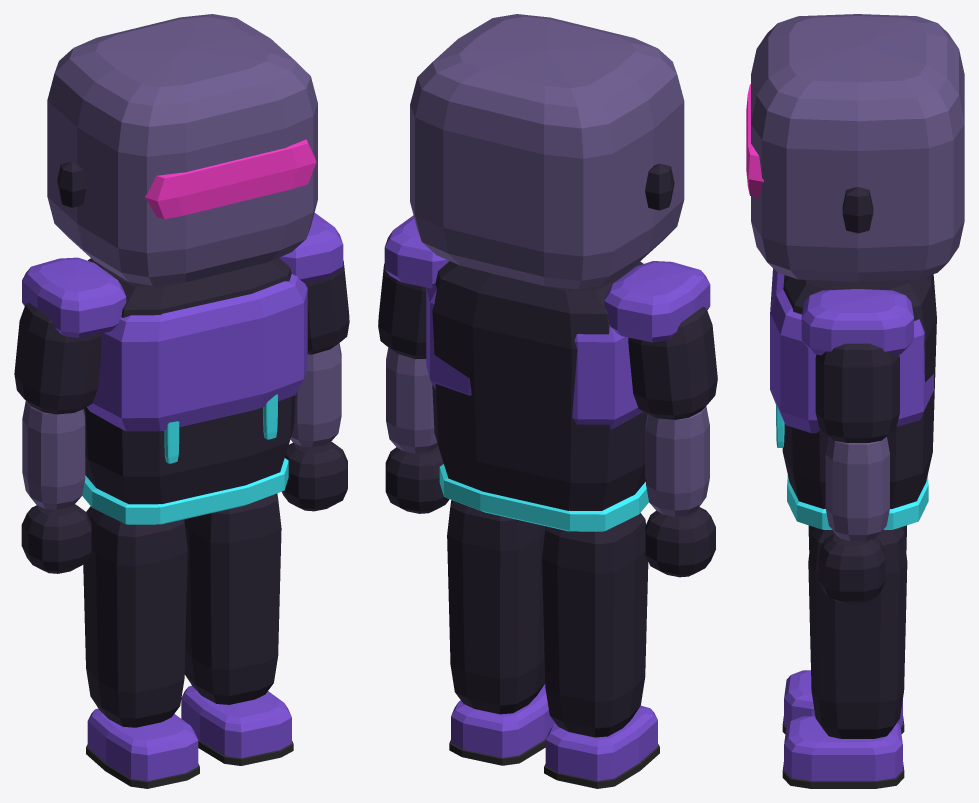
Rendered from hero-h.glb.
3 views of the same model, side by side, from view 1: azimuth 30°, elevation 25°; view 2: azimuth 150°, elevation 25°; view 3: azimuth 270°, elevation 25° (orthographic).
Visible parts, largest first — view 1: head, torso, leg-right, leg-left, arm-right, arm-left; view 2: head, torso, leg-right, leg-left, arm-right, arm-left; view 3: head, torso, leg-left, arm-left, leg-right.
Part boxes in pixels (x1,y1,x2,y2): head: (47,14,317,285); torso: (22,213,343,524); leg-right: (83,506,199,788); leg-left: (181,493,293,765); arm-right: (14,303,101,573); arm-left: (282,260,349,511); head: (410,14,684,289); torso: (384,215,710,531); leg-right: (542,513,659,788); leg-left: (447,500,555,765); arm-right: (628,307,717,577); arm-left: (378,263,449,513); head: (746,14,964,281); torso: (770,268,936,529); leg-left: (782,526,907,788); arm-left: (815,343,899,603); leg-right: (782,525,906,733).
Size of the model in its own units: 1.29 by 2.71 by 0.7619.
